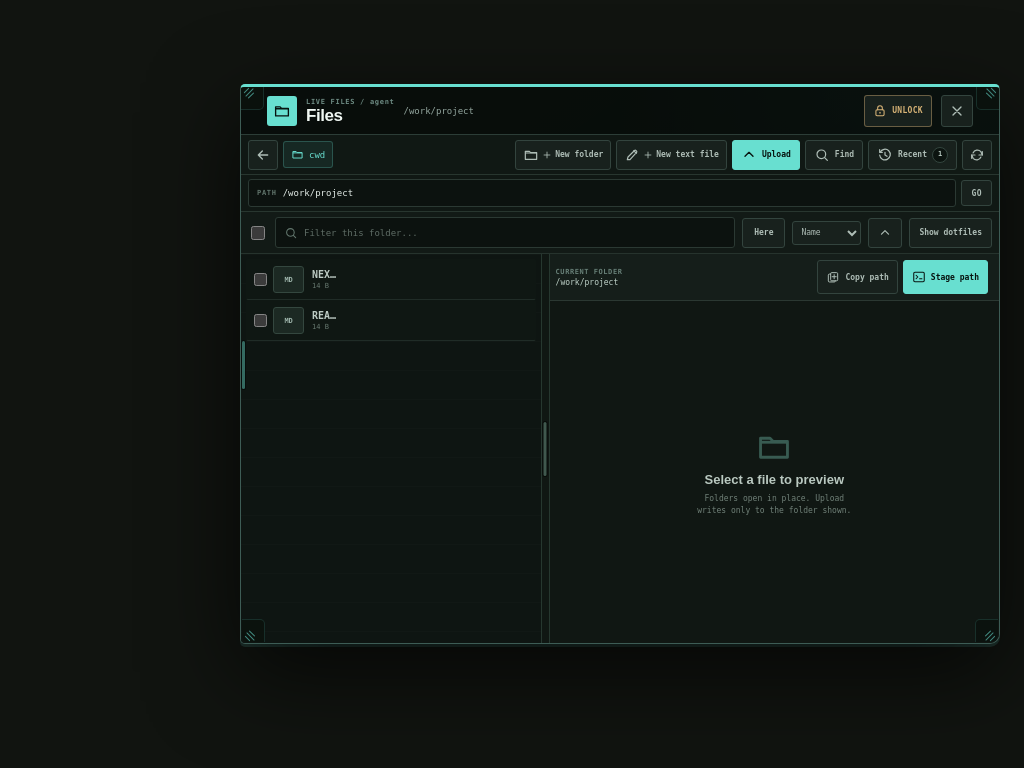
Test: SessionFilesPanel › resets rendered Markdown when selecting another file
Click the button with aria-label "File README.md": (306, 320) [273,307,340,334]
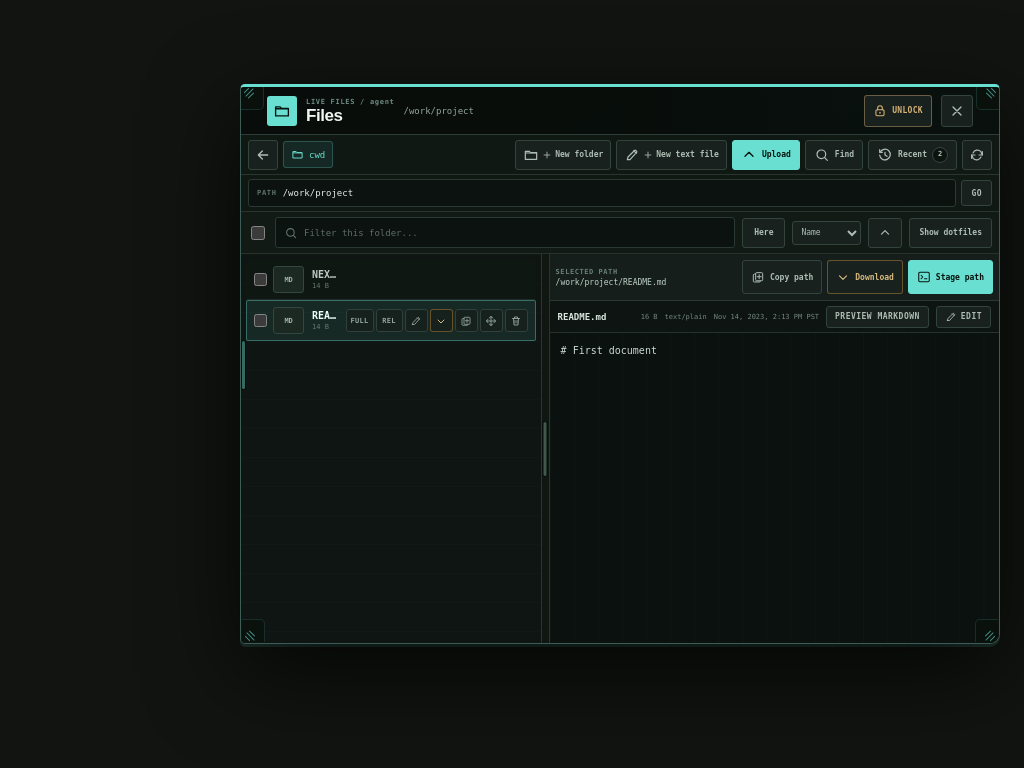
Click the button with aria-label "Preview README.md as rendered Markdown": (878, 316) [826,306,929,328]
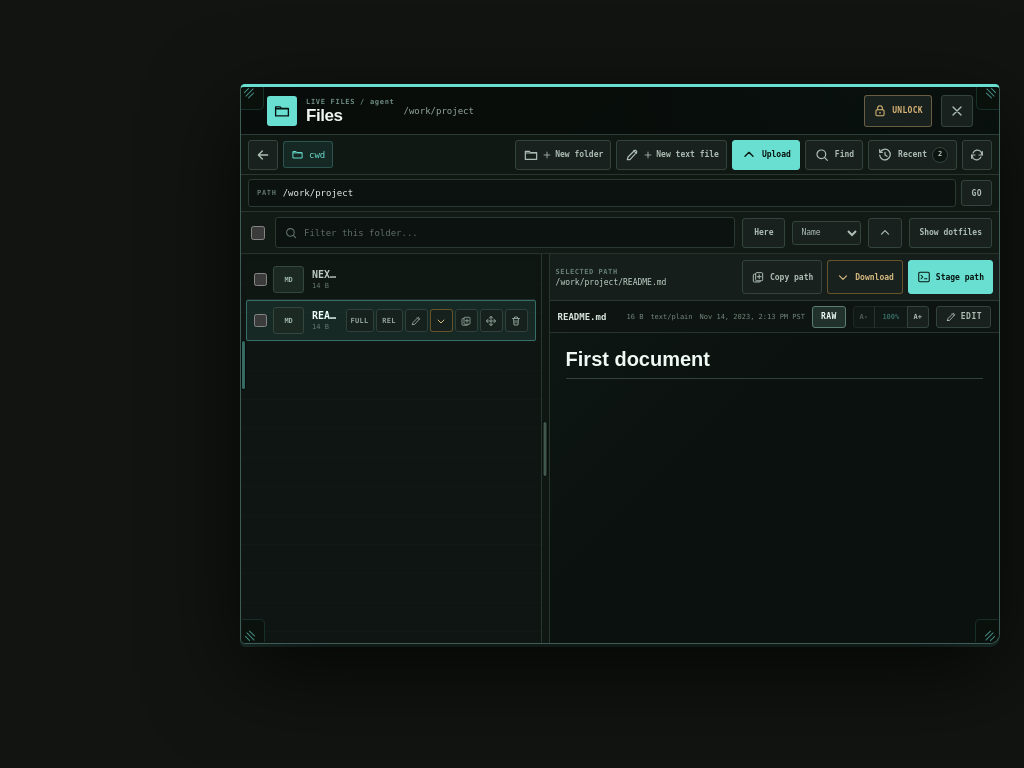
Check: the heading "First document" is shown, box [566,347,983,379]
Click the button with aria-label "File NEXT.MD": (306, 280) [273,266,340,293]
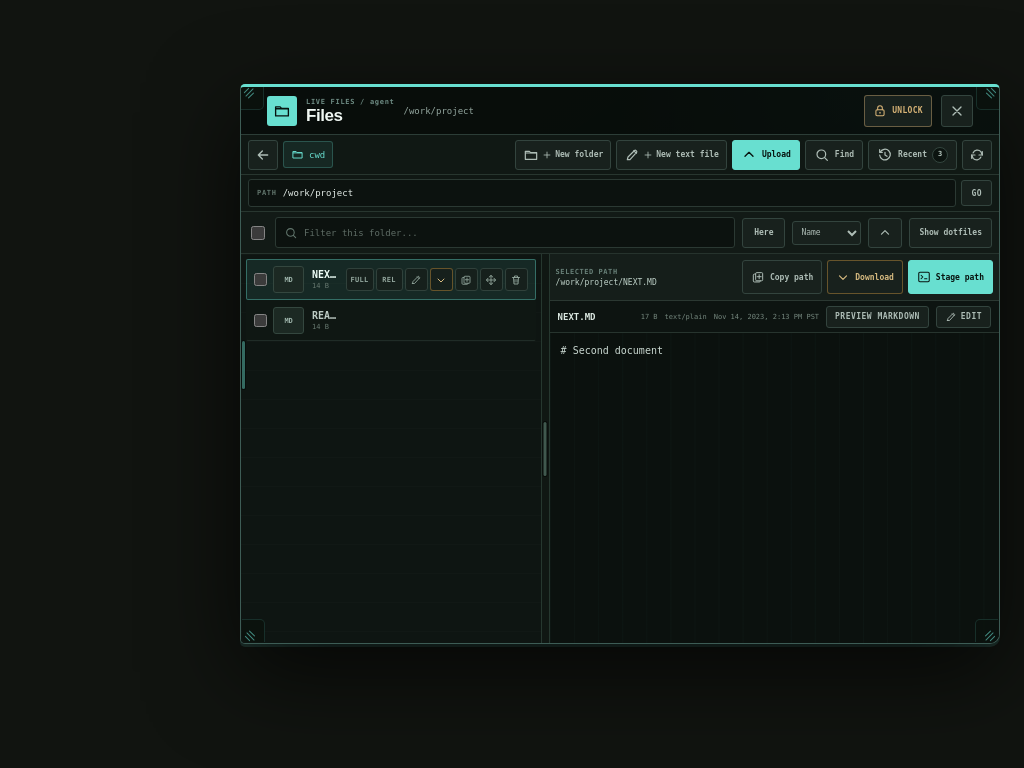
Check: the text "# Second document" is shown, box [550,333,999,643]
